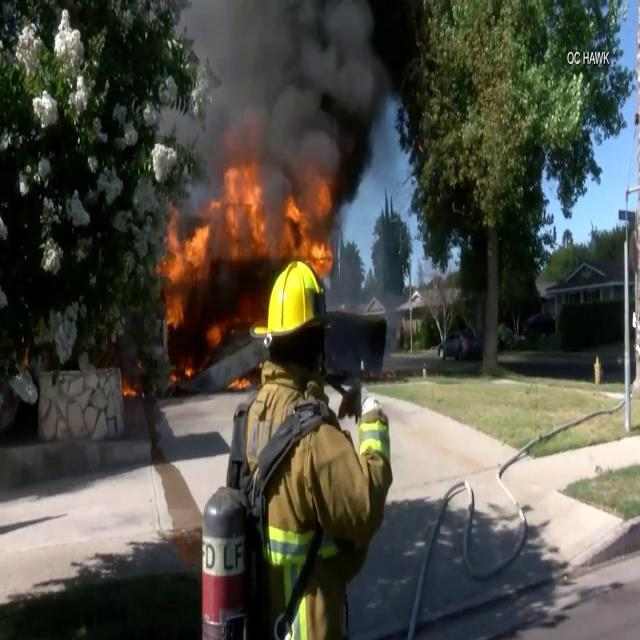Fire: (158, 154, 334, 362)
Smoke: (174, 0, 402, 196)
